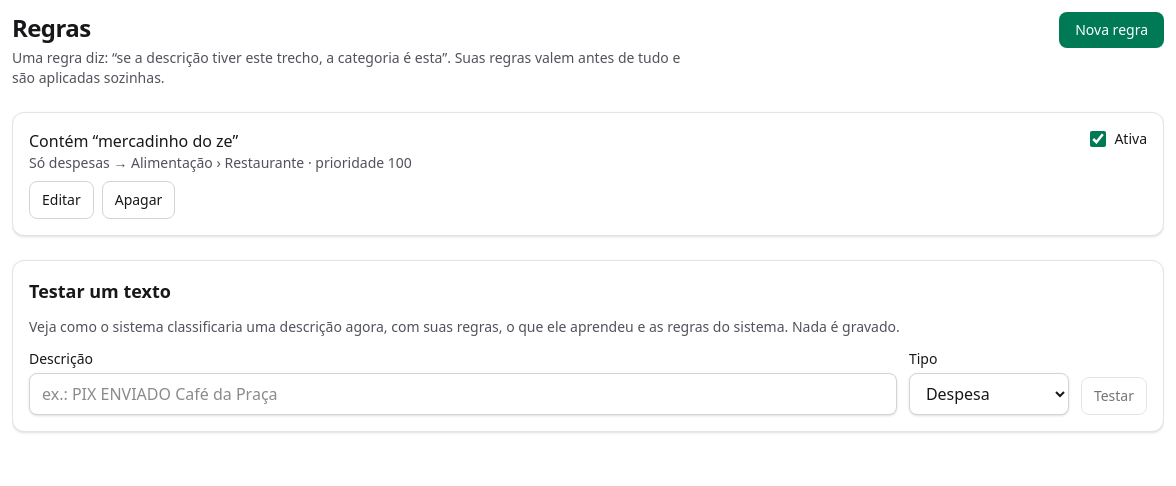
Test: RulesView › testar um texto que ninguém decide diz que ficaria sem categoria
Type "LOJA QUALQUER" into the field labelled "Descrição" at (463, 394), box [29,373,897,415]
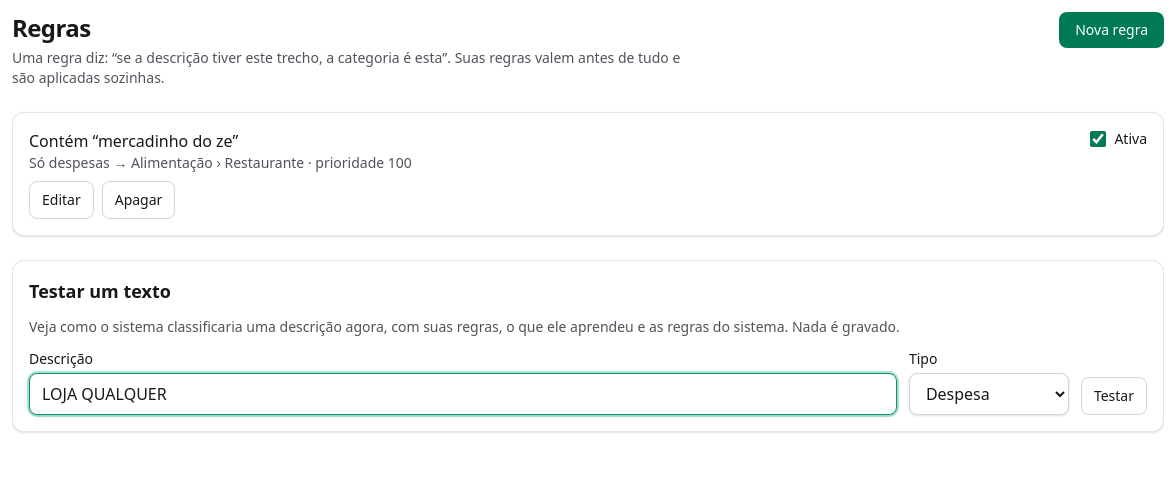
Click the button "Testar" at (1114, 396), box [1081,377,1147,415]
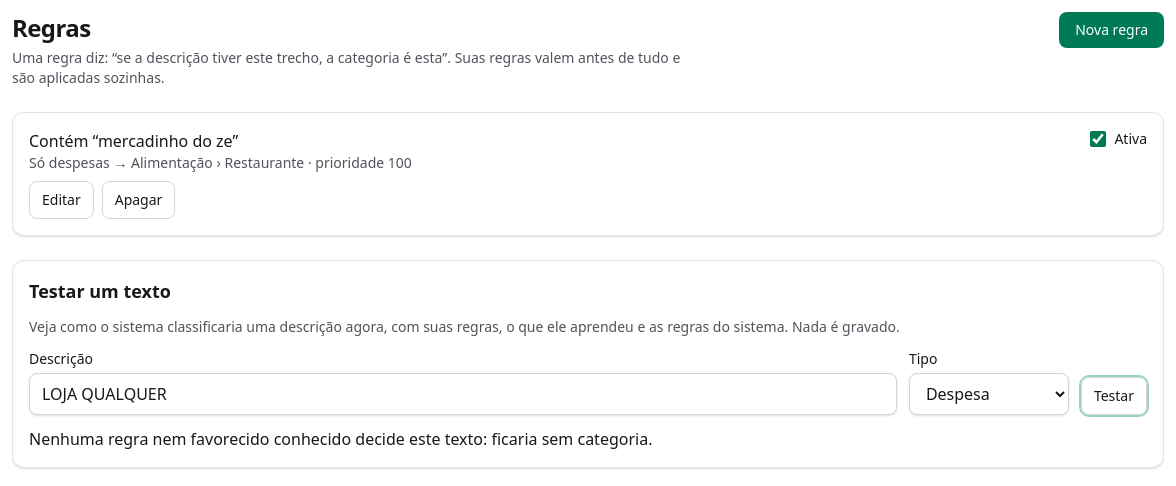
expect the message shows "ficaria sem categoria": met, box [29,428,652,450]
